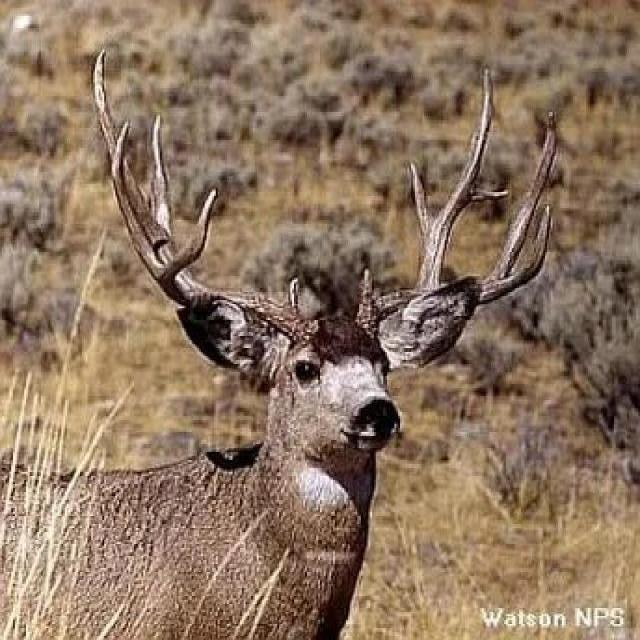deer: (0, 85, 488, 640)
